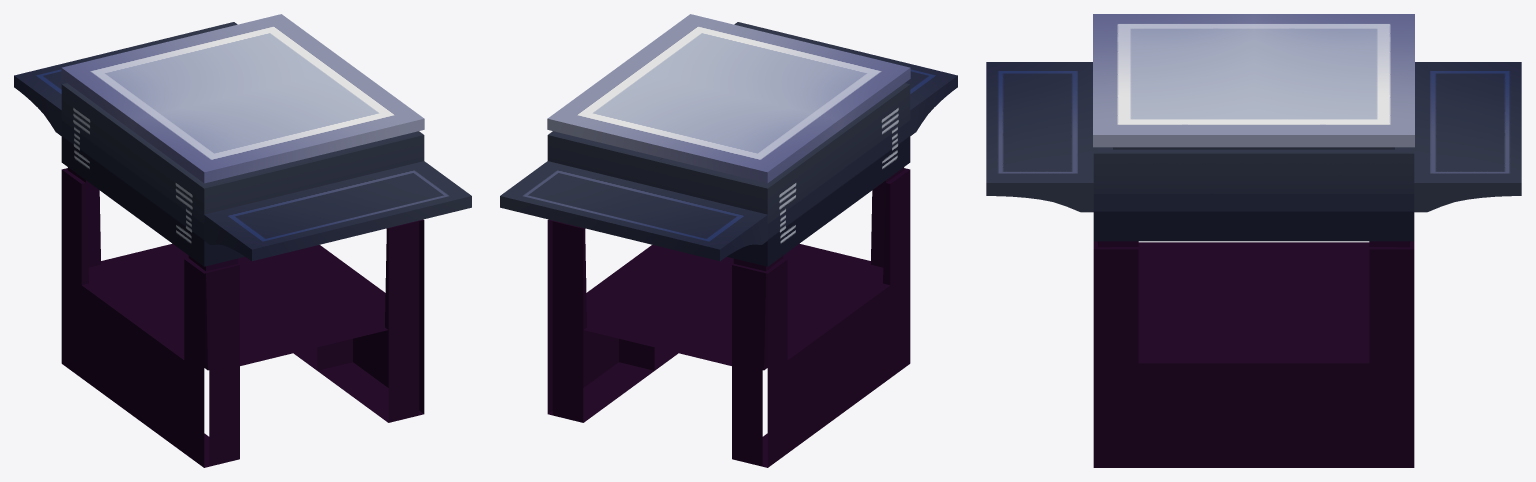
The model's file is TheGrill1.fbx.
3 views of the same model, side by side, from view 1: azimuth 30°, elevation 25°; view 2: azimuth 150°, elevation 25°; view 3: azimuth 270°, elevation 25° (orthographic). The views are drawn at different scales.
Visible parts, largest first — view 1: Plane; view 2: Plane; view 3: Plane.
Boxes of the visible parts, bbox=[...] form: Plane: bbox=[14, 14, 471, 467]; Plane: bbox=[500, 14, 957, 467]; Plane: bbox=[986, 14, 1521, 467].
Size of the model in its own units: 404 by 519 by 756.
Materials: 2 (1 with a texture image).
